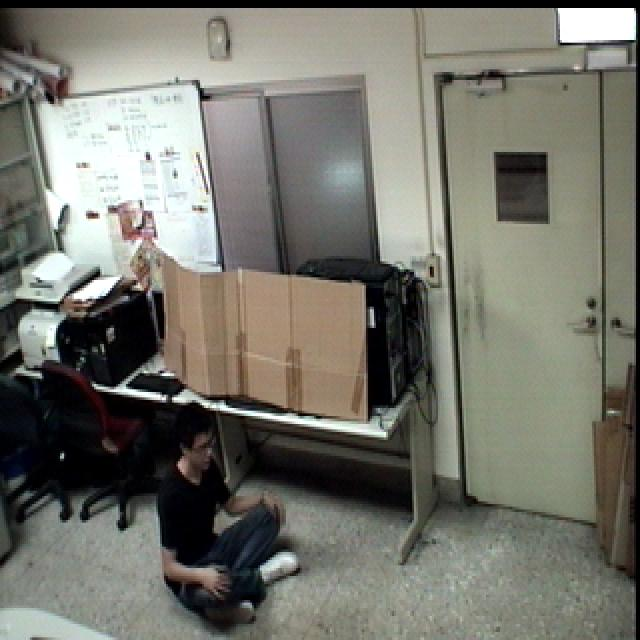sit: (145, 397, 302, 632)
